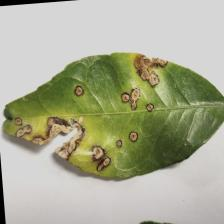canker: (4, 52, 170, 176)
